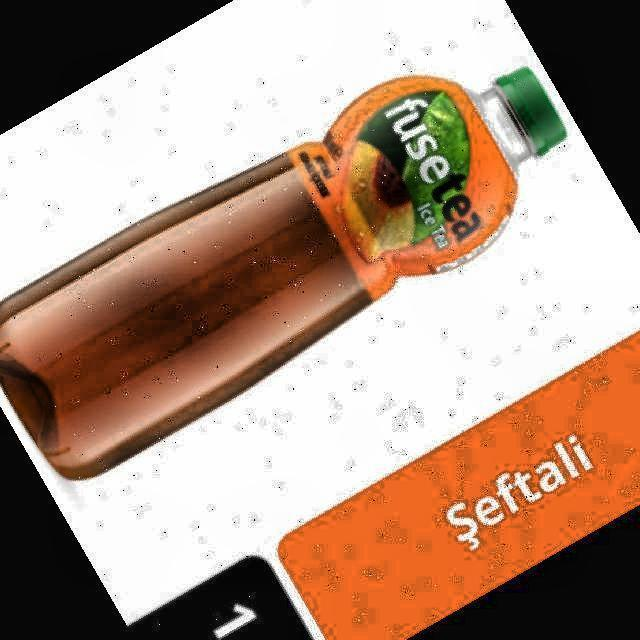plastic: (0, 68, 566, 478)
